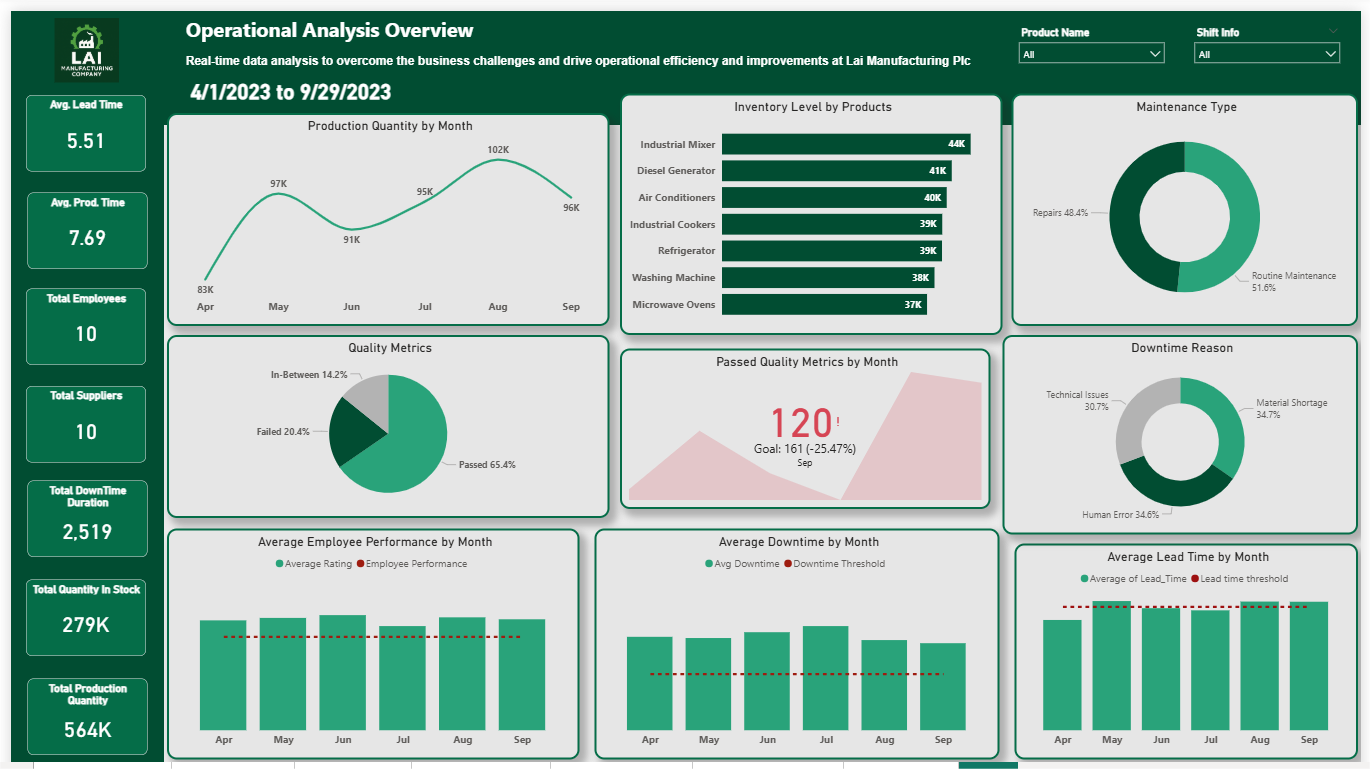

The dashboard page shown, as its layout file describes it:
{"tool":"powerbi","page":{"name":"Overview","canvas":[1800,1050],"ordinal":0},"visuals":[{"type":"shape","box":[8,74,184,140],"z":0},{"type":"shape","box":[204,0,1596,152],"z":1000},{"type":"shape","box":[0,0,204.3,1050],"z":2000},{"type":"textbox","box":[228.6,0,472.9,51.4],"z":3000},{"type":"card","fields":{"Values":["Measure_Table.Date Range"]},"box":[228,74,290,62],"z":4000},{"type":"card","title":"Avg. Lead Time","fields":{"Values":["Measure_Table.Average Lead Time"]},"box":[20,112,160,102],"z":5000},{"type":"card","title":"Avg. Prod. Time","fields":{"Values":["Measure_Table.Average Production time"]},"box":[22,242,160,102],"z":6000},{"type":"card","title":"Total Employees","fields":{"Values":["CountNonNull(Employee_Data.Employee_ID)"]},"box":[20,370,160,102],"z":7000},{"type":"card","title":"Total Suppliers","fields":{"Values":["CountNonNull(Supplier_Data.Supplier_ID)"]},"box":[20,500,160,102],"z":8000},{"type":"card","title":"Total DownTime Duration","fields":{"Values":["Measure_Table.Total Downtime Duration"]},"box":[22,626,160,102],"z":9000},{"type":"card","title":"Total Quantity In Stock","fields":{"Values":["Measure_Table.Total Quantity in stock"]},"box":[20,758,160,102],"z":10000},{"type":"card","title":"Total Production Quantity","fields":{"Values":["Measure_Table.TotalProduction Quantity"]},"box":[22,890,160,102],"z":11000},{"type":"lineChart","title":"Production Quantity by Month","fields":{"Category":["Date Table.Month Name"],"Y":["Sum(Operations_Data.Production_Quantity)"]},"box":[208,136,590,284],"z":12000},{"type":"clusteredBarChart","title":"Inventory Level by Products","fields":{"Category":["Product_Data.Product_Name"],"Y":["Sum(Operations_Data.Quantity_in_Stock)"]},"box":[812,110,510,322],"z":13000},{"type":"pieChart","title":"Quality Metrics","fields":{"Category":["Operations_Data.Quality_Metrics"],"Y":["Measure_Table.Total"]},"box":[208,432,590,244],"z":14000},{"type":"kpi","title":"Passed Quality Metrics by Month","fields":{"Indicator":["Measure_Table.Passed metrics"],"TrendLine":["Date Table.Month Name"],"Goal":["Measure_Table.Target"]},"box":[812,450,494,214],"z":15000},{"type":"lineStackedColumnComboChart","title":"Average Employee Performance by Month","fields":{"Category":["Date Table.Month Name"],"Y2":["Measure_Table.Performance threshold"],"Y":["Measure_Table.Average Rating"]},"box":[208,690,550,308],"z":16000},{"type":"lineStackedColumnComboChart","title":"Average Downtime by Month","fields":{"Category":["Date Table.Month Name"],"Y2":["Measure_Table.Downtime Threshold"],"Y":["Measure_Table.Avg Downtime"]},"box":[778,690,540,308],"z":17000},{"type":"lineStackedColumnComboChart","title":"Average Lead Time by Month","fields":{"Category":["Date Table.Month Name"],"Y2":["Measure_Table.Lead time threshold"],"Y":["Avg(Operations_Data.Lead_Time)"]},"box":[1338,710,458,288],"z":18000},{"type":"donutChart","title":"Maintenance Type","fields":{"Y":["Measure_Table.Total"],"Category":["Operations_Data.Maintenance_Type"]},"box":[1334,110,462,310],"z":19000},{"type":"donutChart","title":"Downtime Reason","fields":{"Y":["Measure_Table.Total"],"Category":["Operations_Data.Downtime_Reason"]},"box":[1322,432,474,266],"z":20000},{"type":"slicer","fields":{"Values":["Product_Data.Product_Name"]},"box":[1334,14,214,62],"z":21000},{"type":"slicer","fields":{"Values":["Employee_Data.Shift_Information"]},"box":[1568,14,214,62],"z":22000},{"type":"image","box":[38,4,126,96],"z":23000},{"type":"textbox","box":[228,52,1078,48],"z":24000}]}

Visuals, with their boxes on the page's 1800x1050 design canvas (x1, y1, x2, y2). These are canvas units, not pixel positions in the 1370x769 screenshot, which may show the page scaled, cropped or inside an application window:
shape: 8:74:192:214
shape: 204:0:1800:152
shape: 0:0:204:1050
textbox: 229:0:702:51
card - Measure_Table.Date Range: 228:74:518:136
"Avg. Lead Time" card: 20:112:180:214
"Avg. Prod. Time" card: 22:242:182:344
"Total Employees" card: 20:370:180:472
"Total Suppliers" card: 20:500:180:602
"Total DownTime Duration" card: 22:626:182:728
"Total Quantity In Stock" card: 20:758:180:860
"Total Production Quantity" card: 22:890:182:992
"Production Quantity by Month" lineChart: 208:136:798:420
"Inventory Level by Products" clusteredBarChart: 812:110:1322:432
"Quality Metrics" pieChart: 208:432:798:676
"Passed Quality Metrics by Month" kpi: 812:450:1306:664
"Average Employee Performance by Month" lineStackedColumnComboChart: 208:690:758:998
"Average Downtime by Month" lineStackedColumnComboChart: 778:690:1318:998
"Average Lead Time by Month" lineStackedColumnComboChart: 1338:710:1796:998
"Maintenance Type" donutChart: 1334:110:1796:420
"Downtime Reason" donutChart: 1322:432:1796:698
slicer - Product_Data.Product_Name: 1334:14:1548:76
slicer - Employee_Data.Shift_Information: 1568:14:1782:76
image: 38:4:164:100
textbox: 228:52:1306:100
